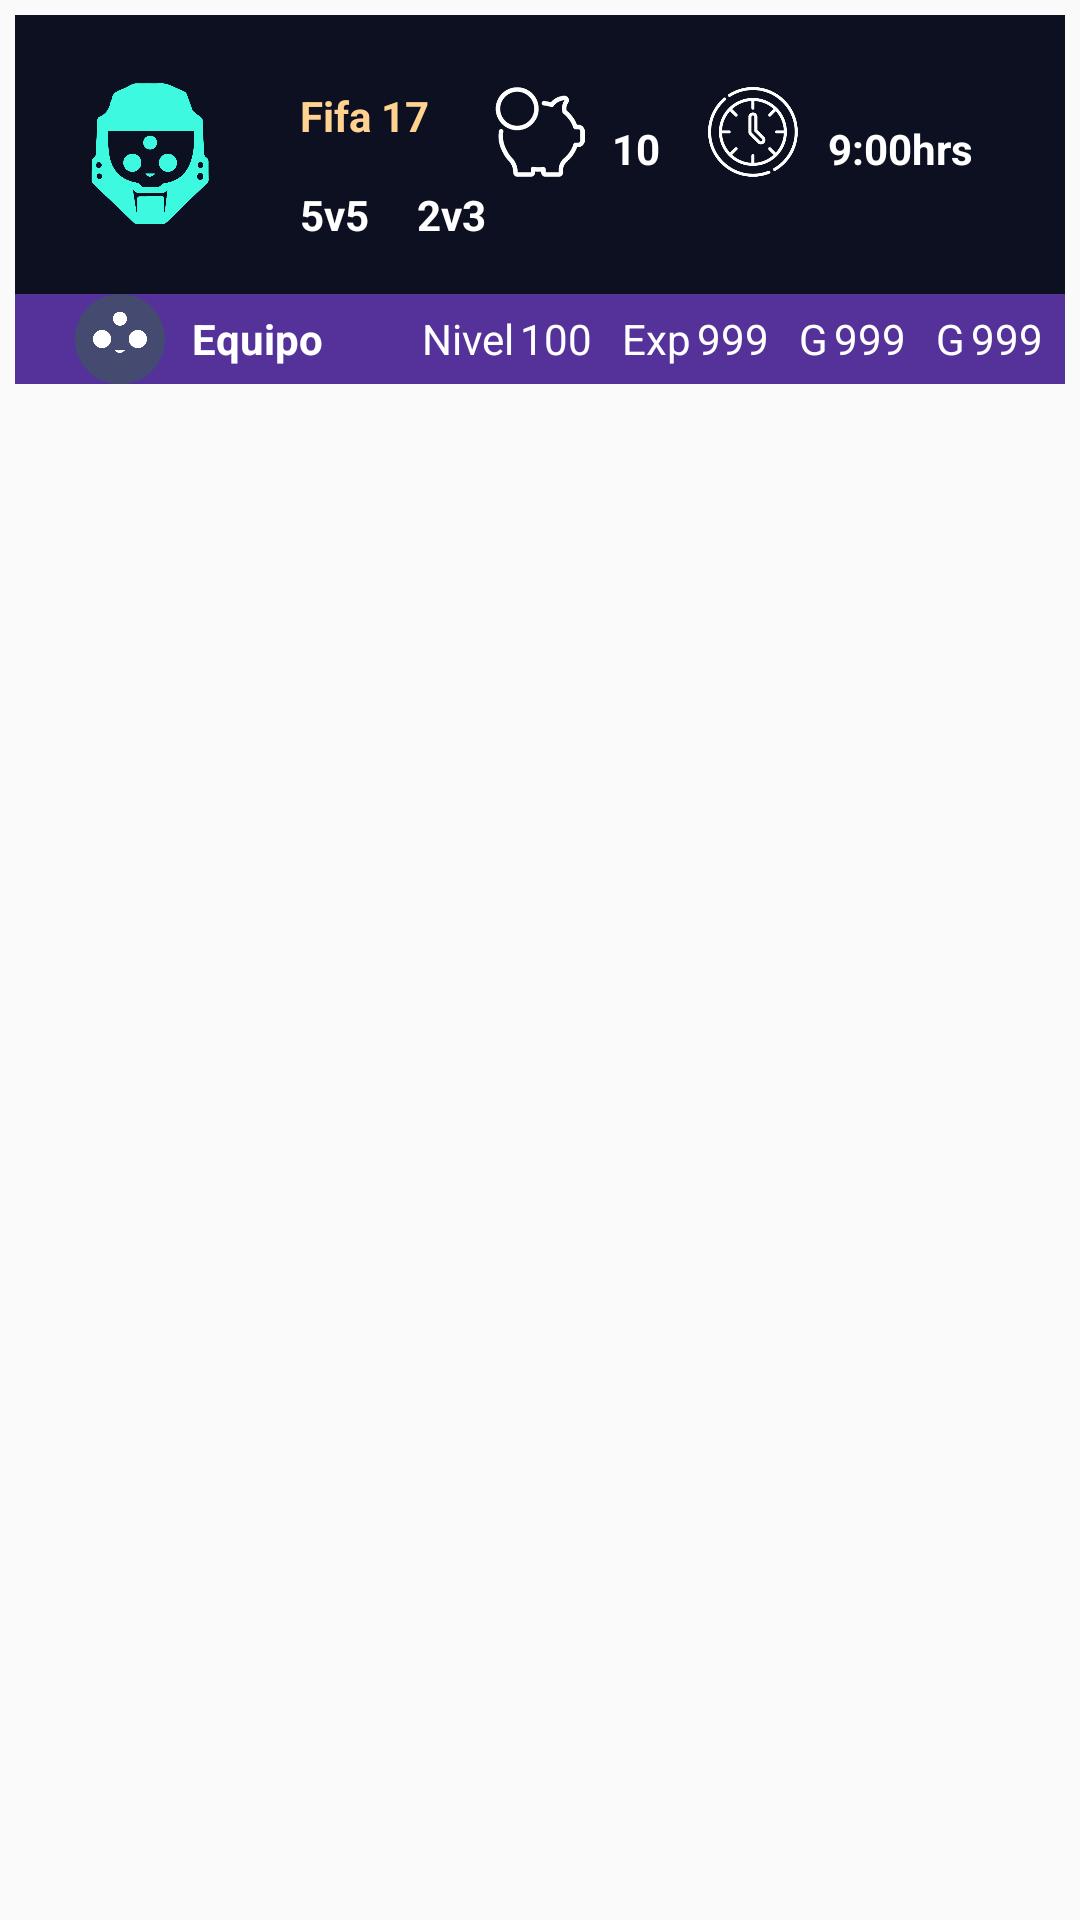

Screen size 1080×1920. Icon name, then its center in pixels as [x,y]:
credits: [540,132]
halolog: [150,153]
profiledefault: [120,339]
time: [753,132]
